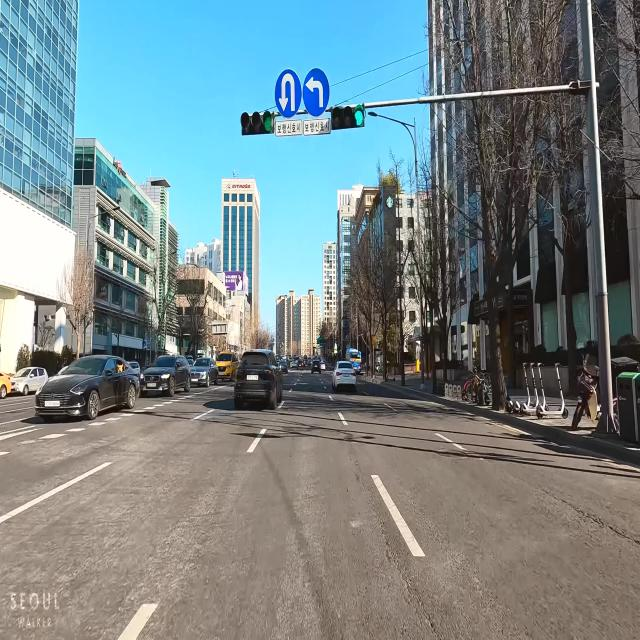Green Light: (353, 106, 365, 127), (262, 112, 273, 134)
